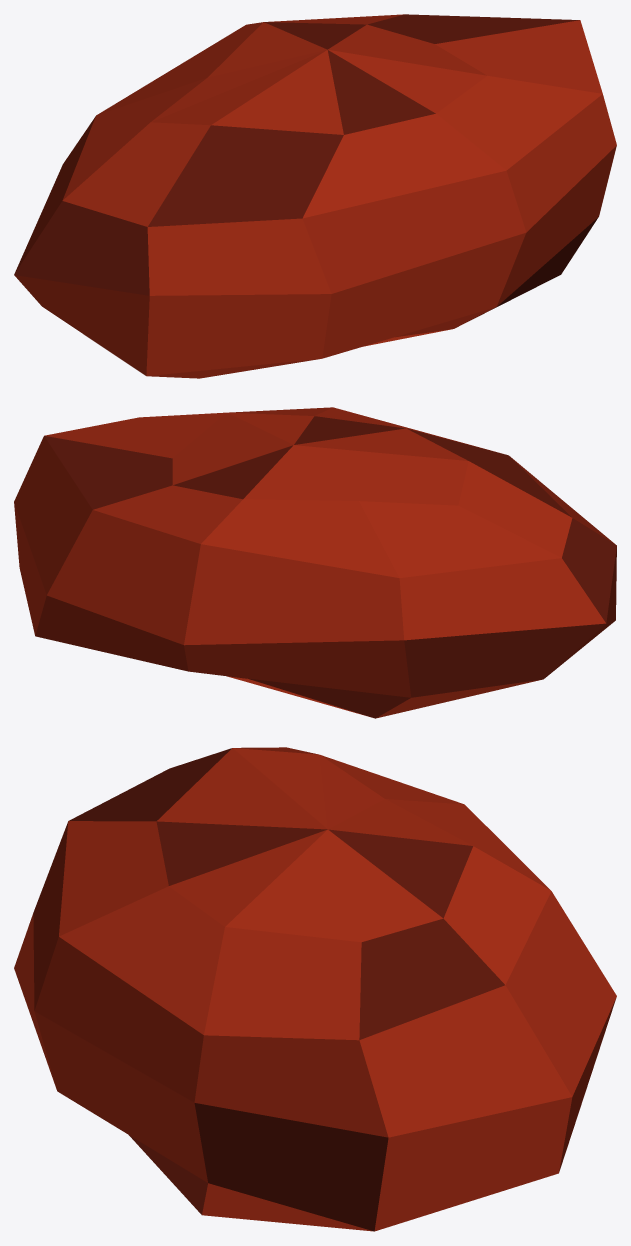
Rendered from clay.glb.
3 views of the same model, one above another, from view 1: azimuth 30°, elevation 25°; view 2: azimuth 150°, elevation 25°; view 3: azimuth 270°, elevation 25° (orthographic). The views are drawn at different scales.
Parts seen in each view (by area): view 1: clay; view 2: clay; view 3: clay.
Part boxes in pixels (bbox=[...]): clay: bbox=[14, 14, 616, 378]; clay: bbox=[14, 407, 616, 718]; clay: bbox=[14, 747, 616, 1231].
Bounding box in the file's own units: 0.4134 × 0.1475 × 0.289.
Materials: 1 (1 with a texture image).
